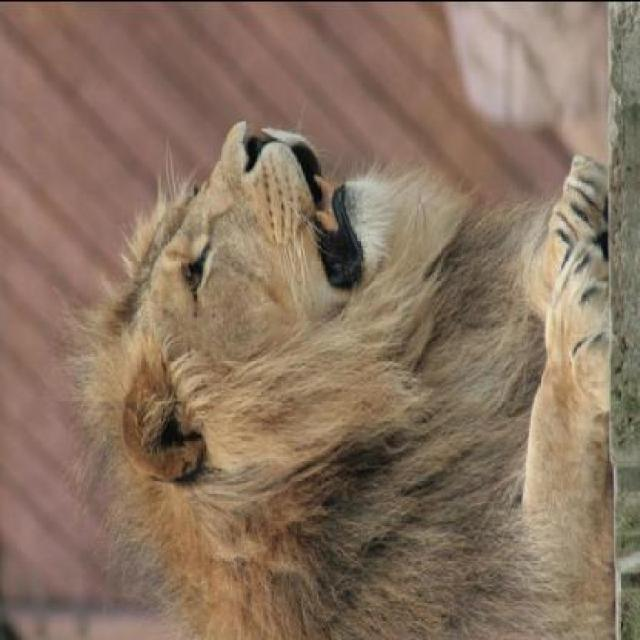Lion: (56, 86, 638, 639)
